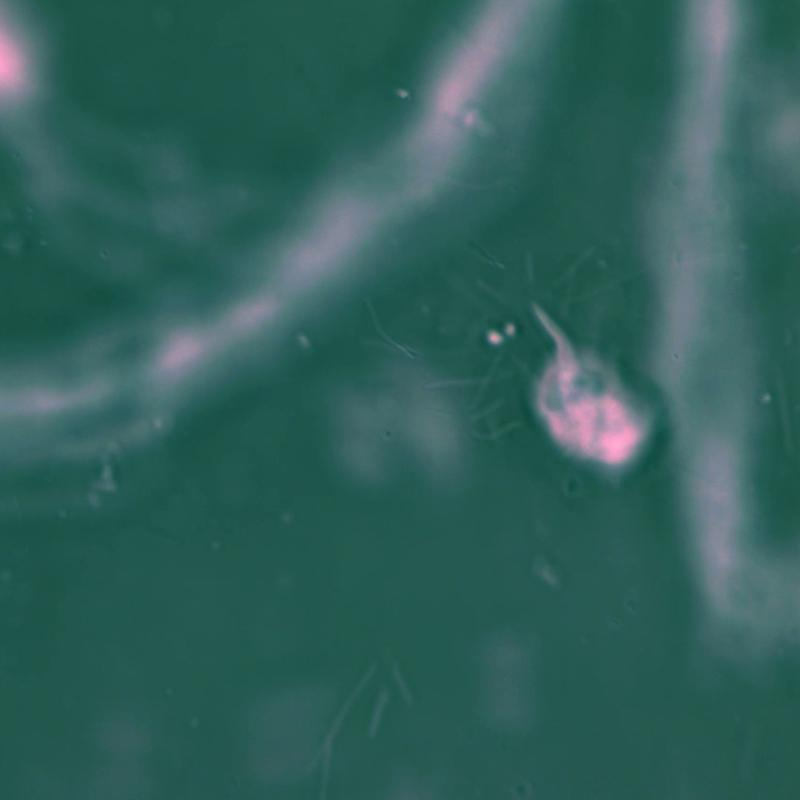depth:100: (511, 270, 688, 529)
